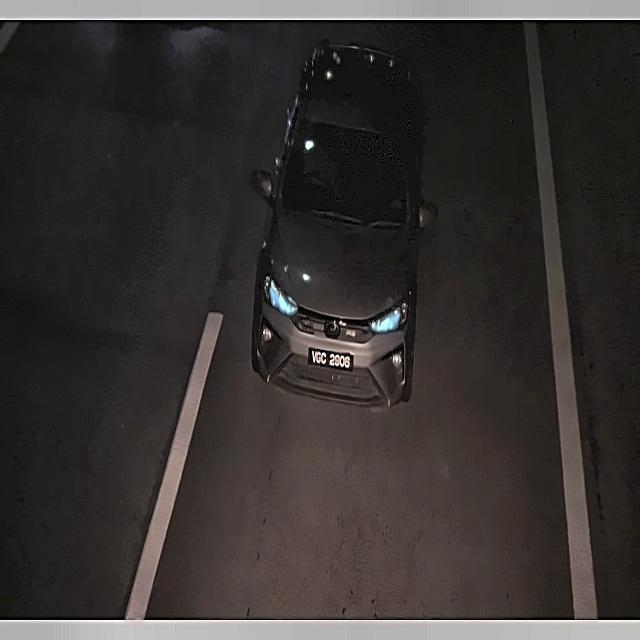car: (305, 339, 356, 380)
